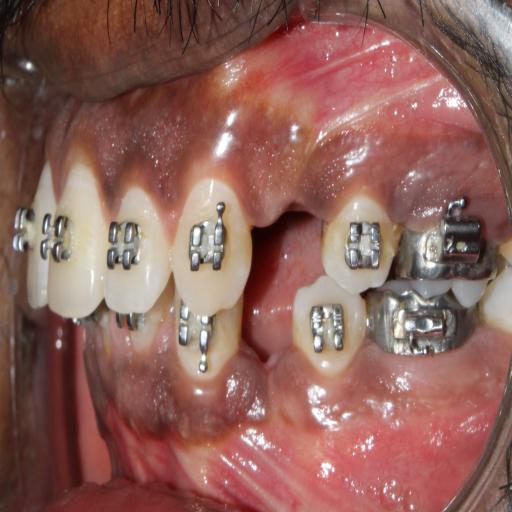correct_brace: (182, 198, 232, 283), (108, 214, 146, 278), (309, 303, 348, 361)
incorrect_brace: (105, 189, 171, 315)
